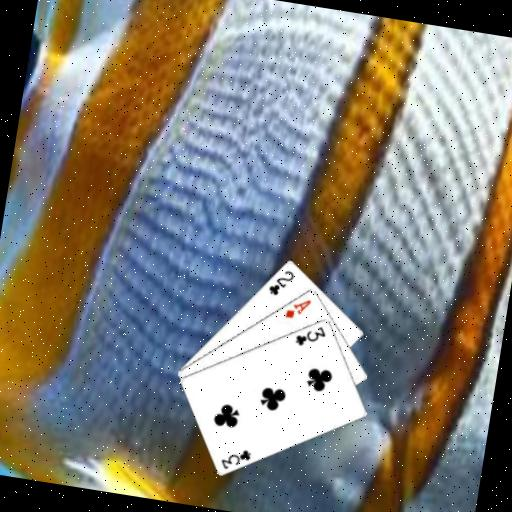2C: (264, 264, 296, 299)
3C: (291, 319, 328, 351), (216, 442, 253, 474)
AD: (281, 292, 313, 322)
